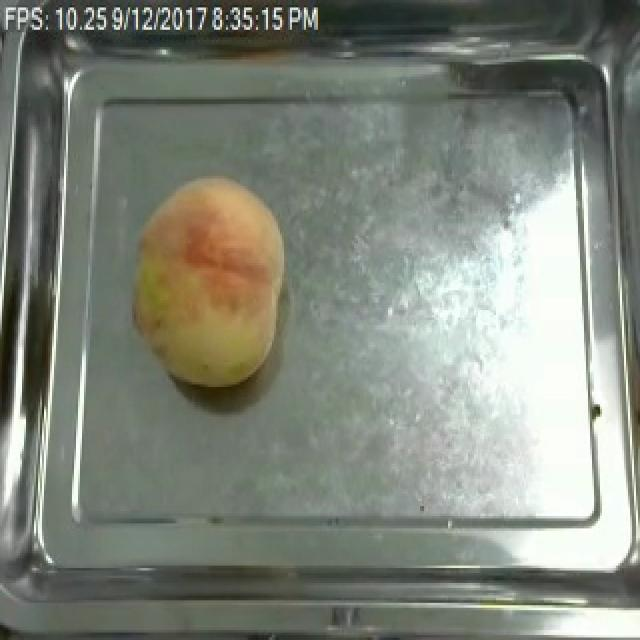Fruit: (124, 174, 294, 397)
